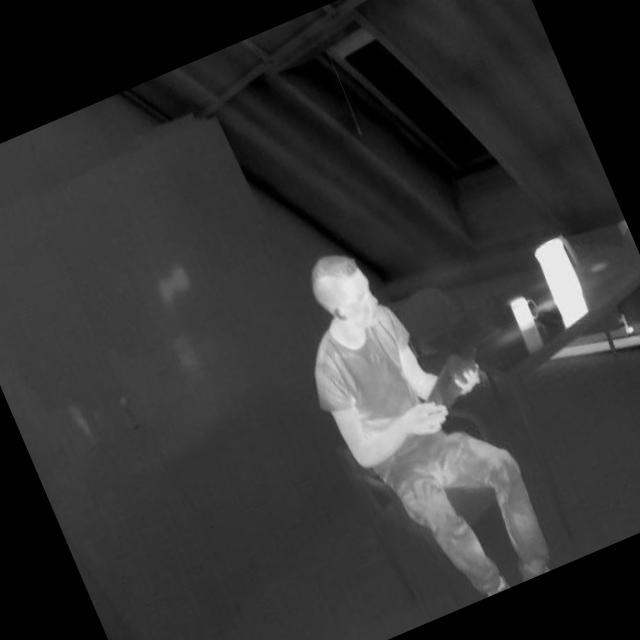person: (263, 206, 568, 627)
